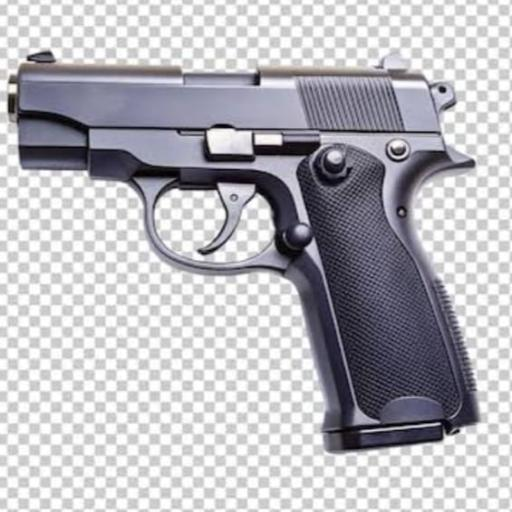Gun: (9, 53, 477, 451)
